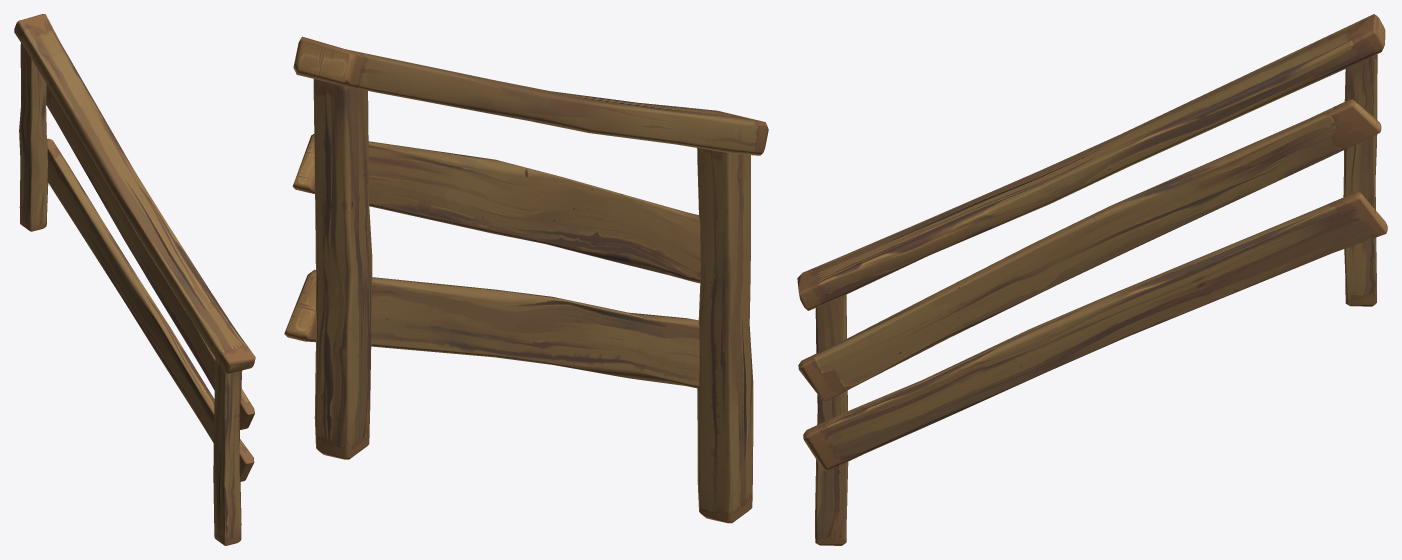
Rendered from SM_MOD_railing_town_01_02.fbx.
3 views of the same model, side by side, from view 1: azimuth 30°, elevation 25°; view 2: azimuth 150°, elevation 25°; view 3: azimuth 270°, elevation 25° (orthographic). The views are drawn at different scales.
Parts seen in each view (by area): view 1: SM_MOD_railing_town_01_02_LOD0; view 2: SM_MOD_railing_town_01_02_LOD0; view 3: SM_MOD_railing_town_01_02_LOD0.
Boxes of the visible parts, box(x1,y1,x2,y2) form: SM_MOD_railing_town_01_02_LOD0: box(14, 14, 255, 545); SM_MOD_railing_town_01_02_LOD0: box(284, 36, 768, 523); SM_MOD_railing_town_01_02_LOD0: box(797, 14, 1387, 545).
Size of what is drawn, in the model's own units: 17.64 by 198 by 203.
